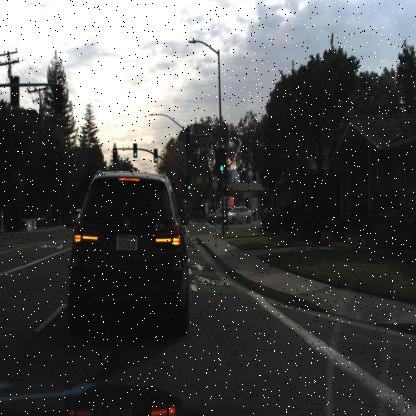car: (64, 163, 192, 344), (223, 204, 256, 228)
trafficLight: (110, 144, 118, 166)
trafficLight-Green: (216, 148, 228, 181), (152, 147, 158, 163), (132, 143, 138, 157), (186, 178, 192, 192)
